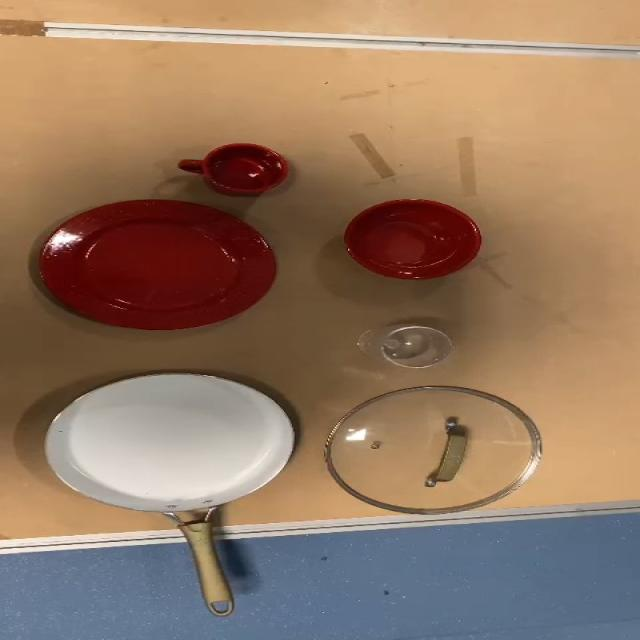Bowl: (348, 193, 480, 288)
Glass: (365, 322, 455, 374)
Plate: (37, 200, 278, 326)
cup: (172, 144, 298, 198)
pot: (49, 373, 314, 615)
